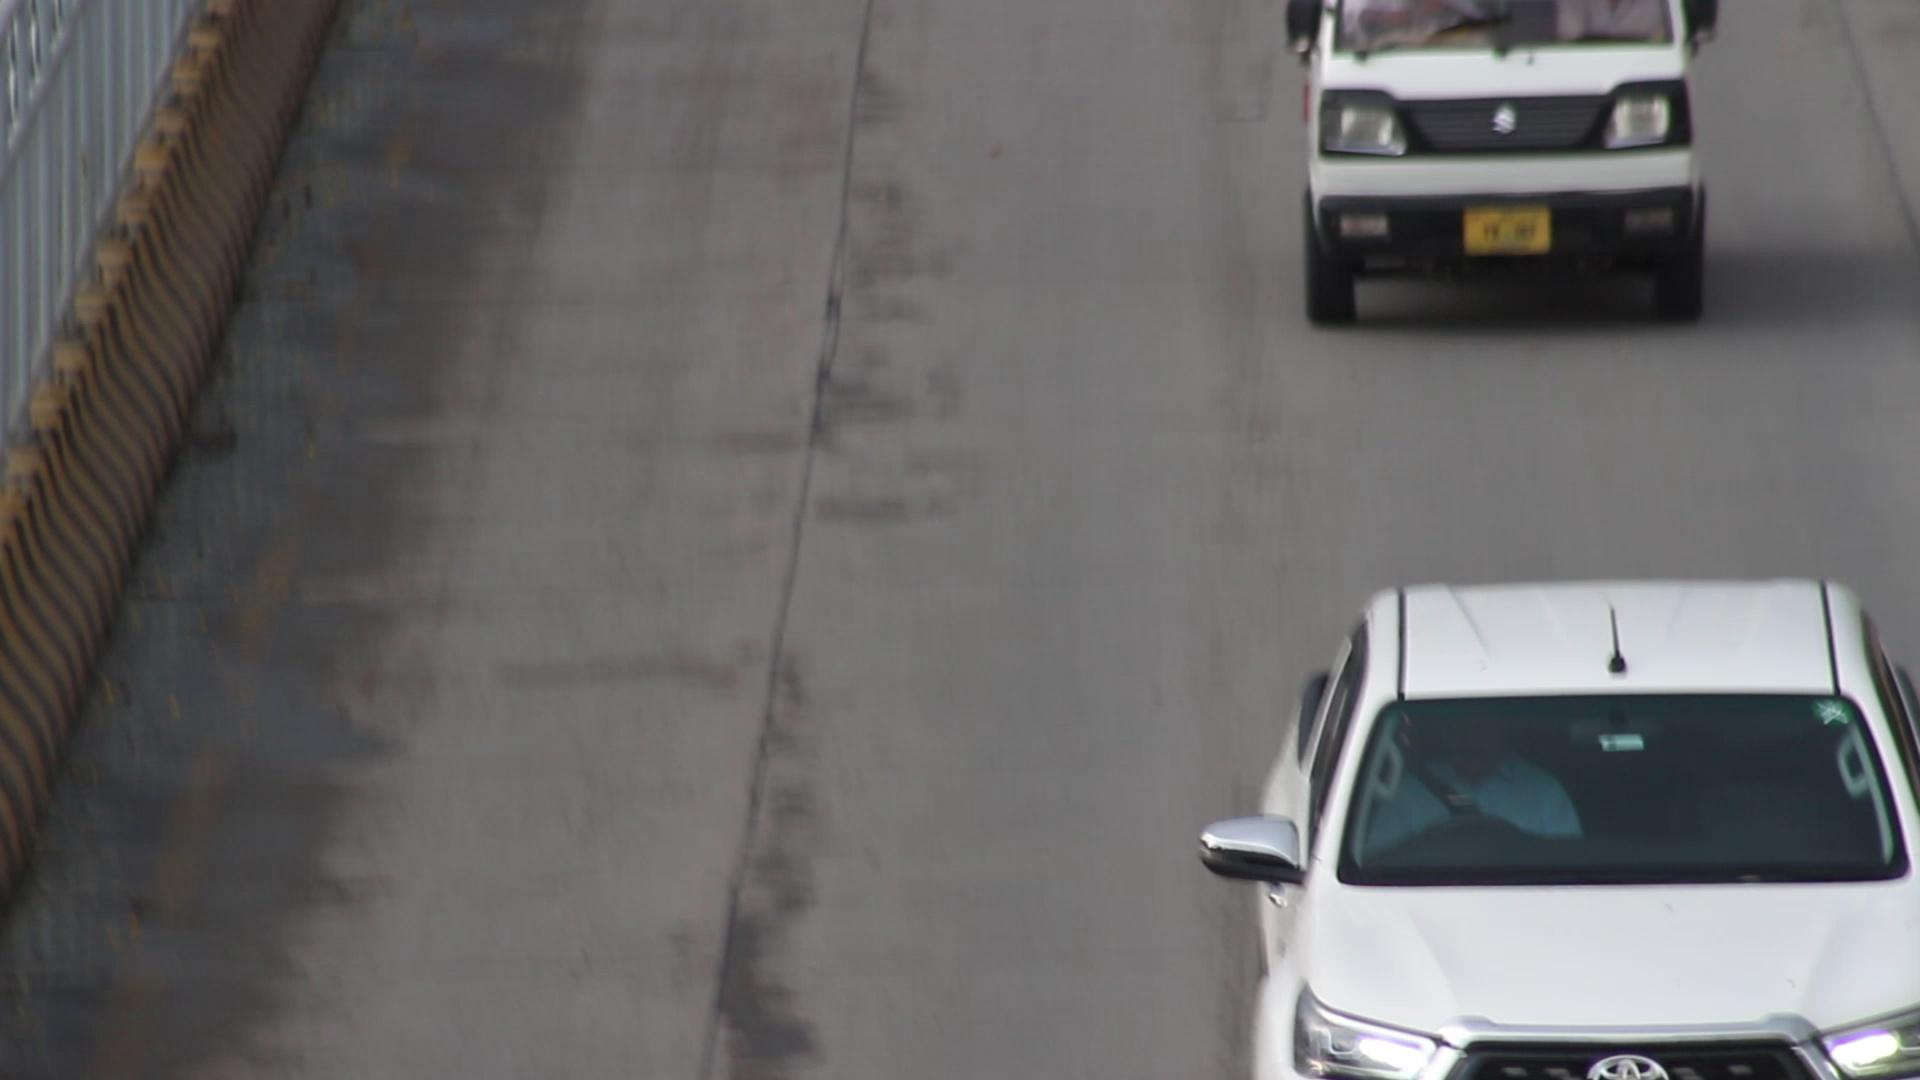windshield: (1313, 680, 1911, 899)
